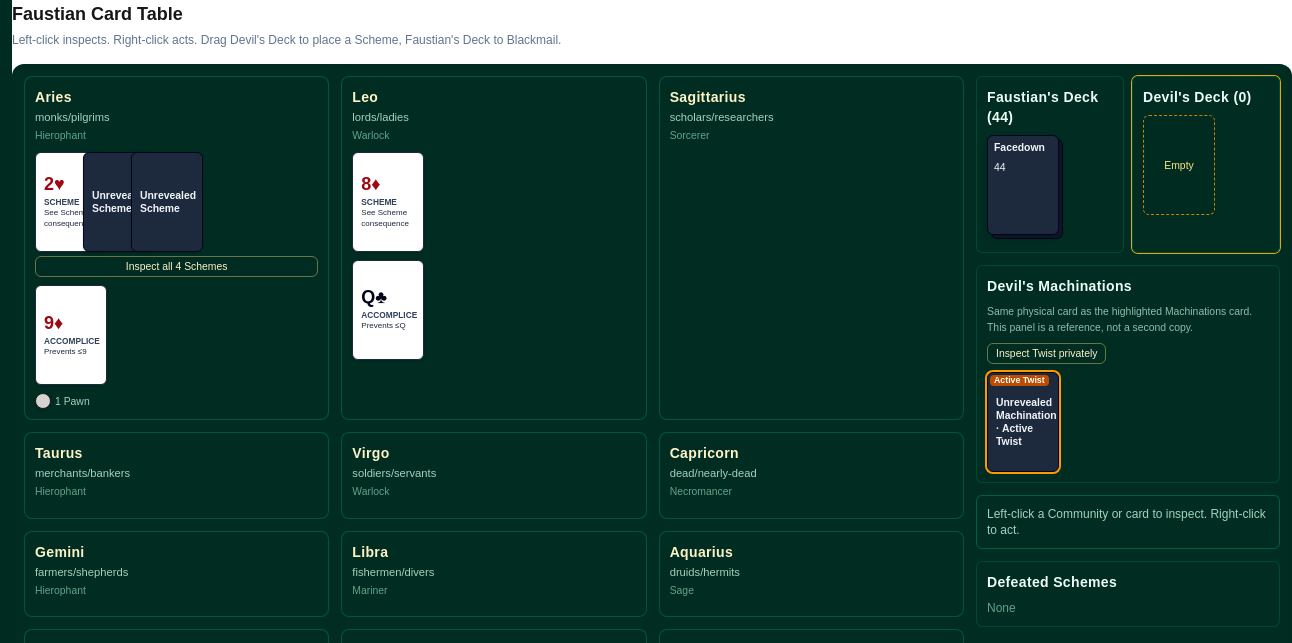
Test: Faustian surface presentation › opens Community detail in the primary inspector rail on left-click
The width and height of the screenshot is (1292, 643).
(page scrolled)
Step 1. Click the element named "Aries · monks/pilgrims · Hierophant" → x=177, y=248, box [24,76,329,420]
(page scrolled)
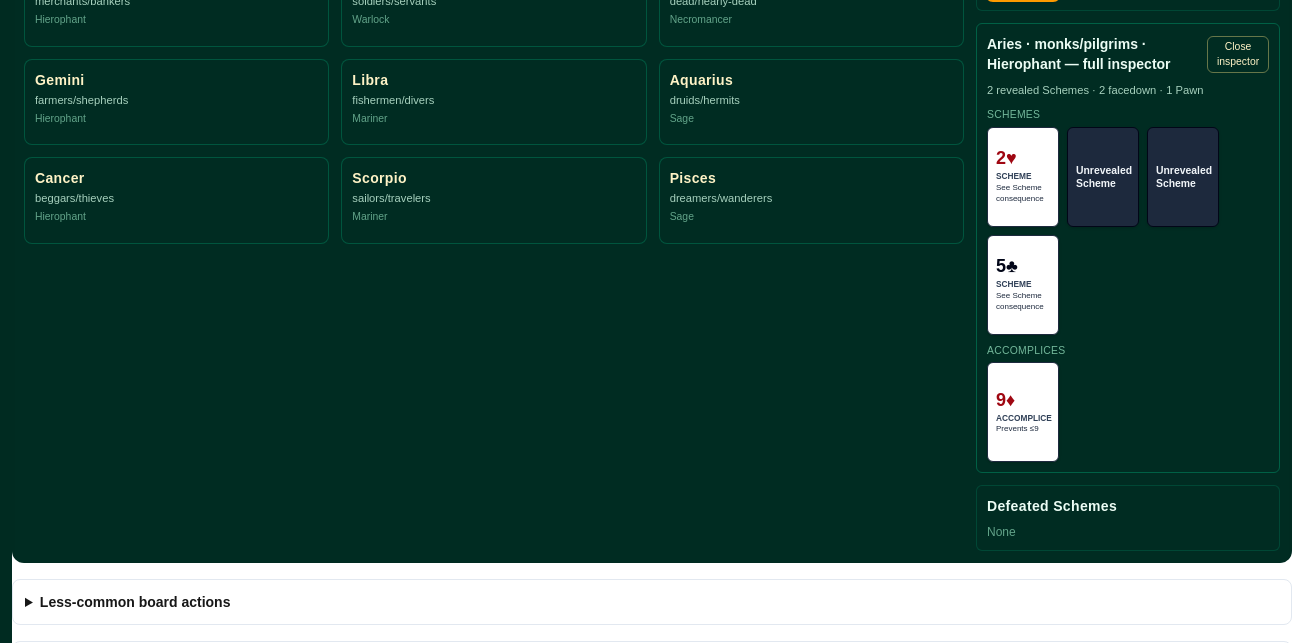
Check: the element named "Aries inspector" shows "Aries", box [987,36,1146,72]
Check: the element named "Aries inspector" shows "monks/pilgrims", box [987,36,1146,72]
Check: the element named "Aries inspector" shows "Hierophant", box [987,36,1146,72]
